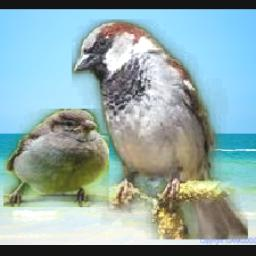Sparrow: (73, 20, 249, 240), (5, 110, 110, 208)
